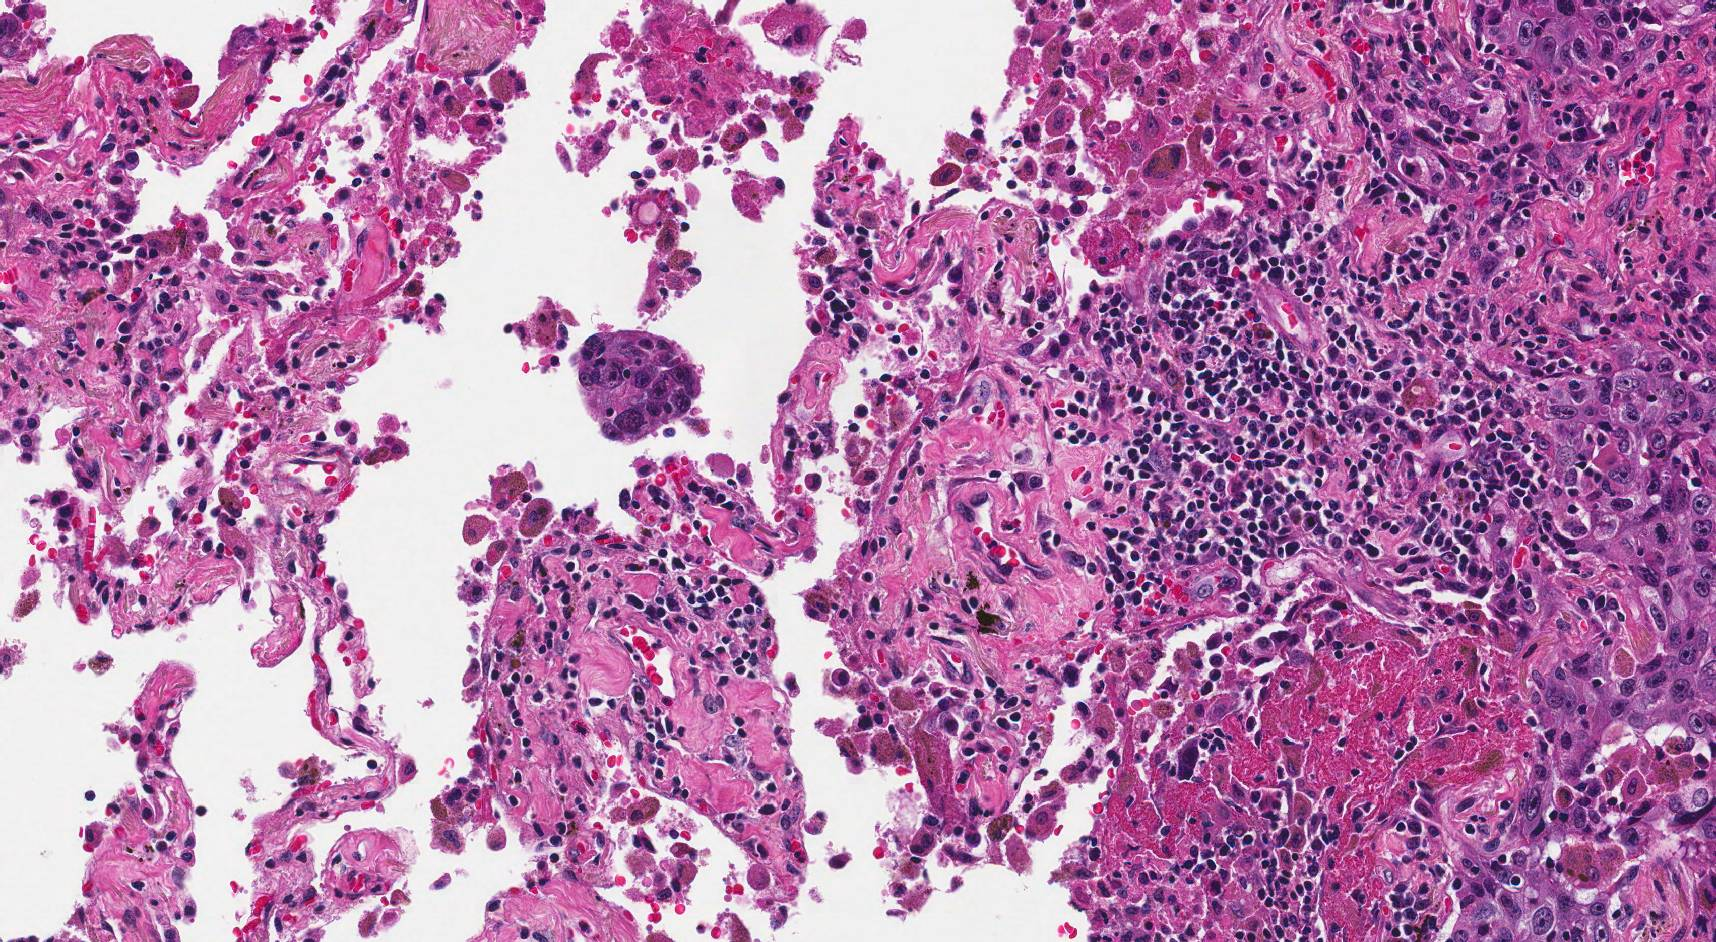stas: (576, 332, 702, 446)
